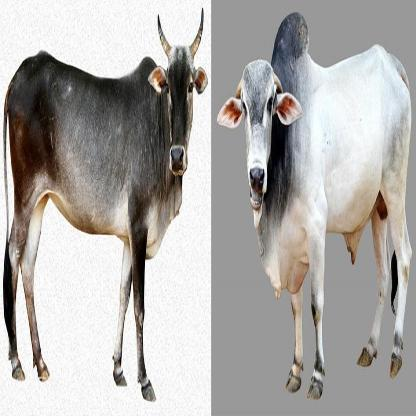cow: (5, 46, 207, 399), (218, 49, 410, 398)
